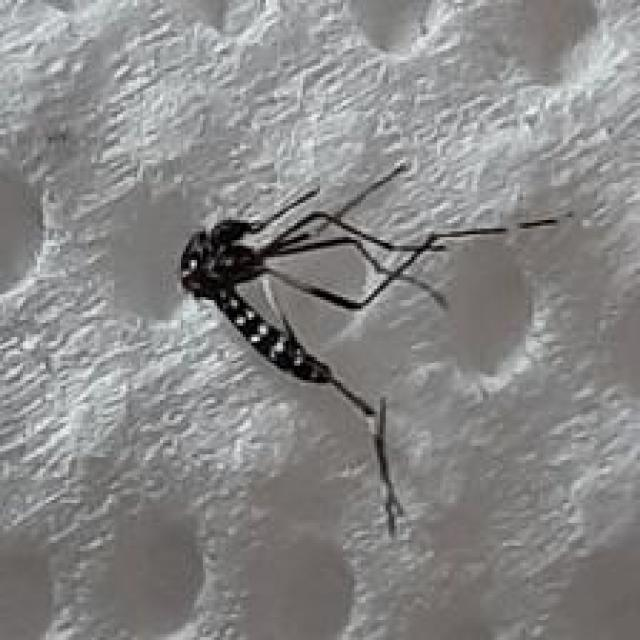Aedes albopictus: (177, 158, 574, 536)
